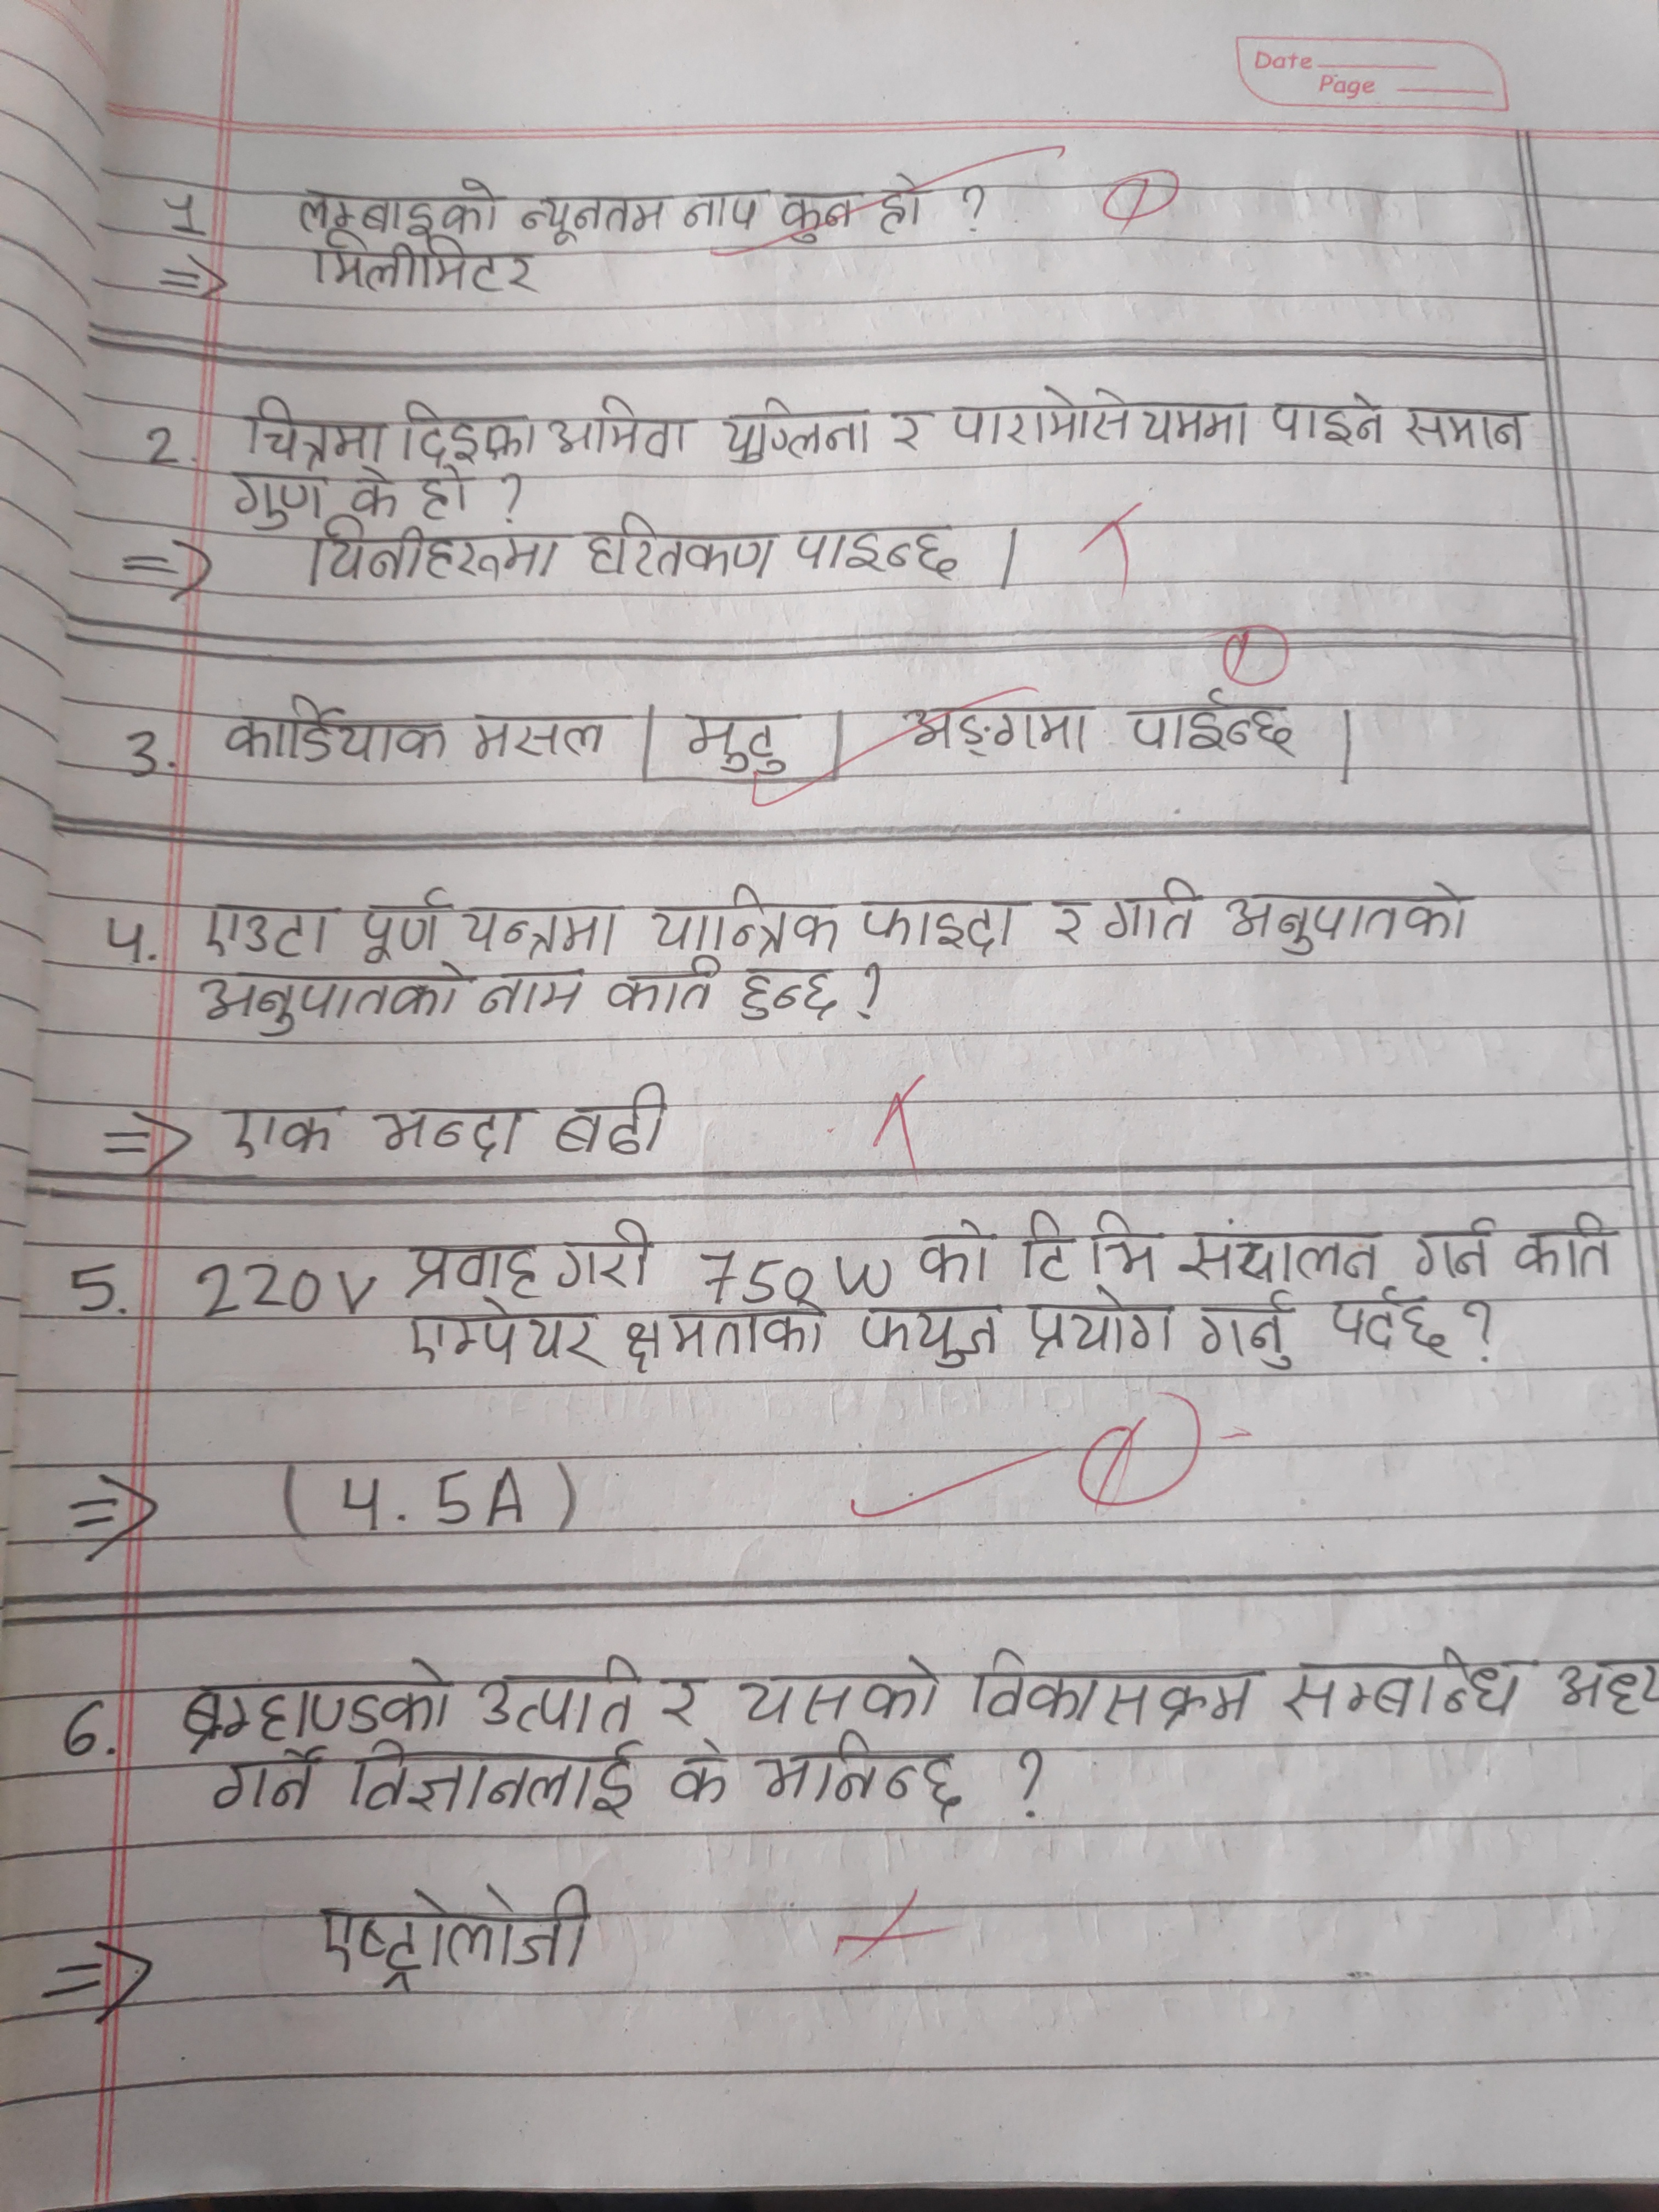text: (310, 1881, 603, 1994), (964, 1642, 1270, 1731), (340, 1738, 647, 1827), (181, 1656, 457, 1743), (748, 1726, 978, 1822), (1279, 1641, 1535, 1721), (951, 385, 1253, 451), (1227, 880, 1476, 958), (195, 967, 465, 1038), (305, 517, 566, 589), (218, 695, 453, 770), (620, 1296, 835, 1378), (399, 1296, 612, 1378), (735, 1648, 946, 1730), (298, 230, 540, 294), (641, 883, 842, 958), (580, 510, 779, 585), (474, 1651, 645, 1737), (279, 172, 502, 237), (1171, 1217, 1385, 1284), (1018, 1200, 1173, 1291), (369, 1090, 538, 1165), (1121, 688, 1298, 758), (1019, 1285, 1183, 1360), (716, 392, 878, 465), (392, 1230, 545, 1305), (845, 1299, 1002, 1372), (894, 702, 1093, 759), (202, 1092, 350, 1169), (1185, 1285, 1307, 1378), (782, 514, 964, 575), (237, 395, 390, 465), (451, 897, 624, 958), (547, 1080, 678, 1160), (202, 894, 342, 968), (538, 394, 697, 458), (852, 895, 1028, 951), (202, 1740, 335, 1813), (465, 711, 633, 768), (664, 707, 796, 779), (399, 395, 540, 458), (558, 1214, 659, 1299), (1556, 1642, 1659, 1726), (1323, 1294, 1455, 1359), (516, 188, 671, 242), (1399, 1212, 1502, 1291), (350, 883, 444, 967), (1513, 1212, 1624, 1282), (1105, 874, 1208, 946), (1403, 401, 1534, 456), (606, 958, 725, 1019), (727, 961, 845, 1021), (1274, 390, 1387, 451), (223, 469, 329, 528), (918, 1219, 1004, 1292), (479, 968, 587, 1024), (662, 1740, 737, 1813), (774, 188, 857, 247), (870, 167, 939, 237), (648, 1662, 711, 1738), (673, 186, 772, 233), (1032, 892, 1100, 951), (410, 465, 481, 519), (343, 463, 401, 523), (885, 402, 936, 462)
